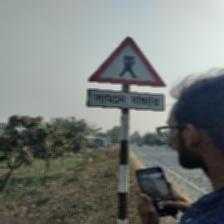Market-in-front: (86, 36, 168, 113)
